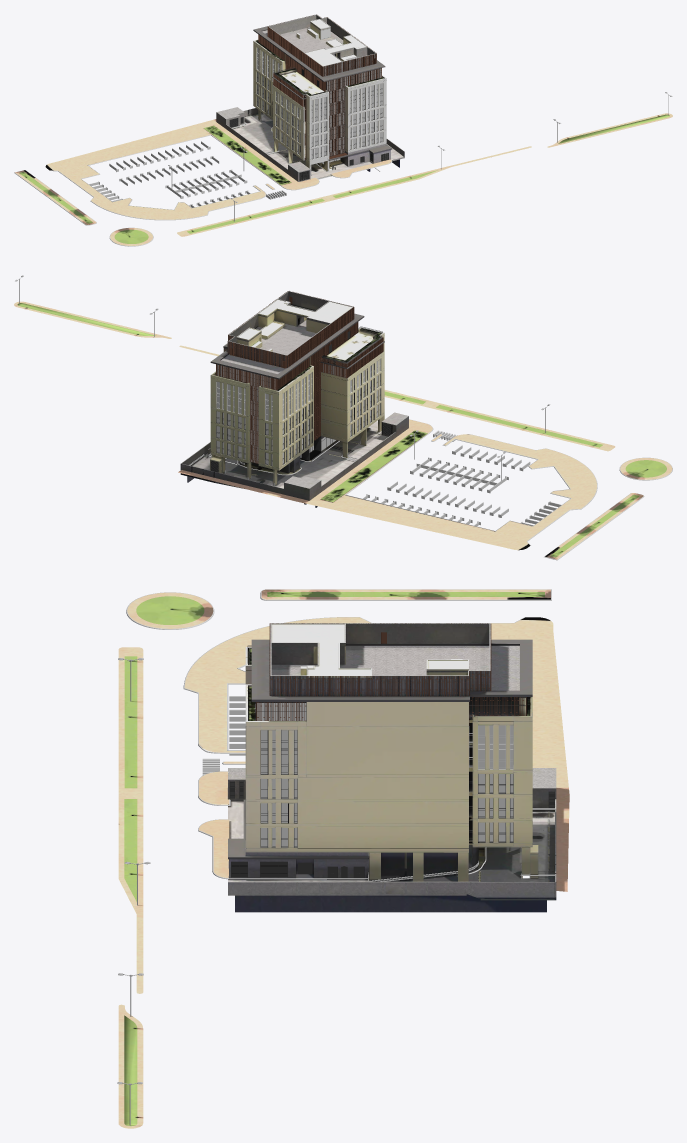
File: Clinic_build.glb
3 renders of one model, top to bottom at view 1: azimuth 30°, elevation 25°; view 2: azimuth 150°, elevation 25°; view 3: azimuth 270°, elevation 25°, orthographic. The views are drawn at different scales.
Parts seen in each view (by area): view 1: Clinic_build; view 2: Clinic_build; view 3: Clinic_build.
Part boxes in pixels (x1,y1,x2,y2): Clinic_build: [14, 14, 672, 246]; Clinic_build: [14, 275, 672, 560]; Clinic_build: [117, 589, 569, 1128].
Bounding box in the file's own units: 218 × 42.3 × 77.32.
Materials: 10 (2 with a texture image).
